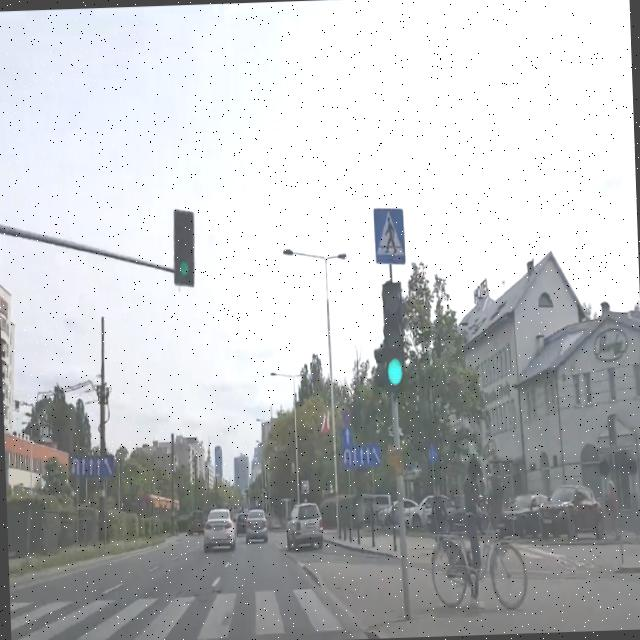Przejscie dla pieszych: (372, 206, 406, 266)
Zakaz zatrzymywania sie: (342, 406, 352, 426)
